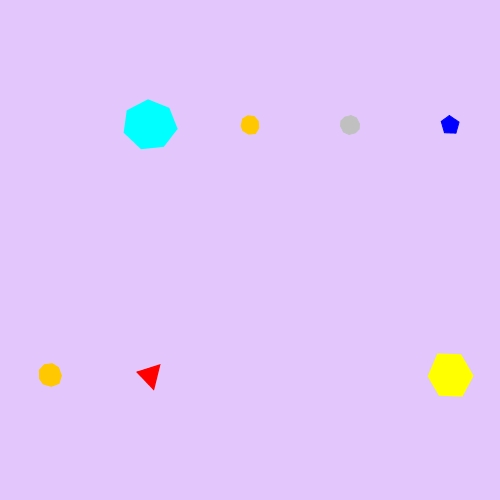decagon: (335, 111, 365, 139)
heptagon: (120, 97, 180, 154)
hexagon: (422, 352, 479, 399)
nonagon: (34, 360, 67, 391), (236, 111, 265, 139)
pentagon: (436, 111, 464, 139)
triangle: (135, 359, 166, 392)
